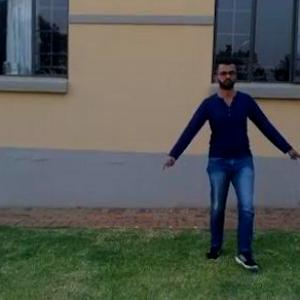land: (165, 61, 296, 268)
